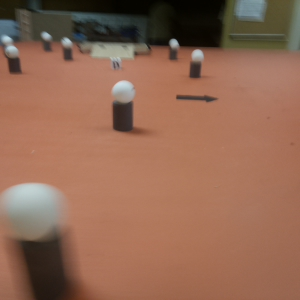obstacle: (4, 183, 76, 300), (112, 79, 134, 129), (6, 45, 19, 77), (191, 48, 203, 76), (42, 32, 52, 54), (169, 38, 177, 63), (63, 38, 71, 60)
side: (76, 39, 90, 55), (136, 42, 152, 55)
slope: (92, 44, 134, 57)
